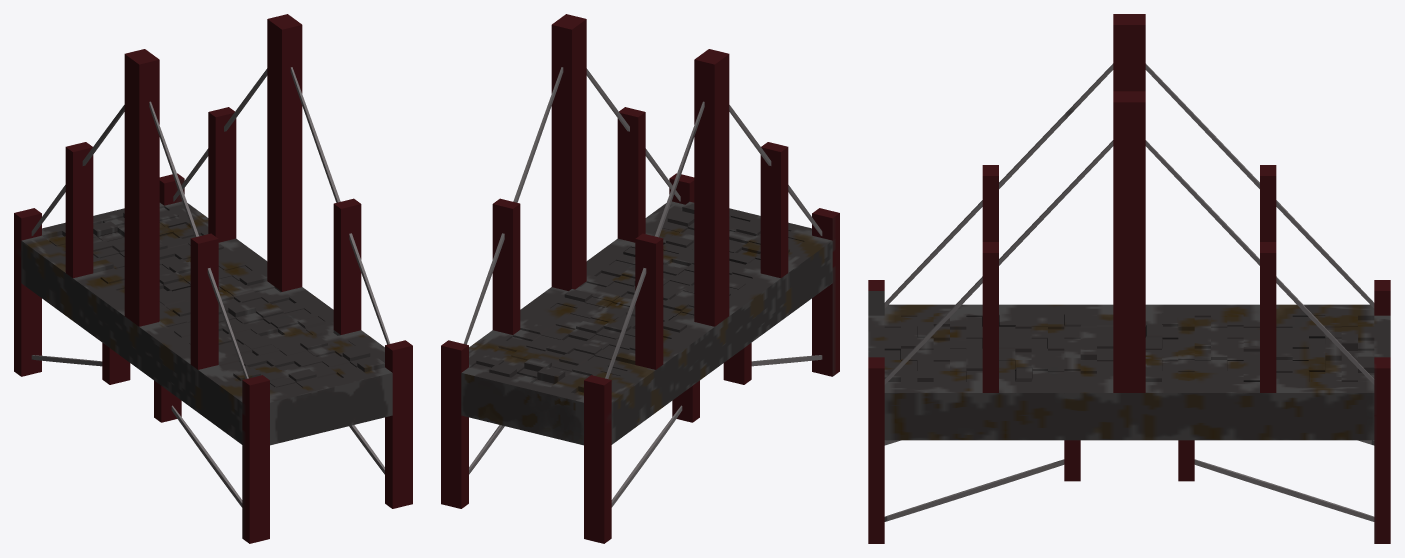
Rendered from Bridge2.gltf.
The picture shows the model from 3 angles, left to right: view 1: azimuth 30°, elevation 25°; view 2: azimuth 150°, elevation 25°; view 3: azimuth 270°, elevation 25°; orthographic projection. The views are drawn at different scales.
Visible parts, largest first — view 1: Brige2; view 2: Brige2; view 3: Brige2.
Part boxes in pixels (box(x1,y1,x2,y2)): Brige2: box(14, 14, 412, 543); Brige2: box(441, 14, 839, 543); Brige2: box(868, 14, 1390, 543).
Bounding box in the file's own units: 40 × 93.32 × 100.
Materials: 1 (1 with a texture image).
